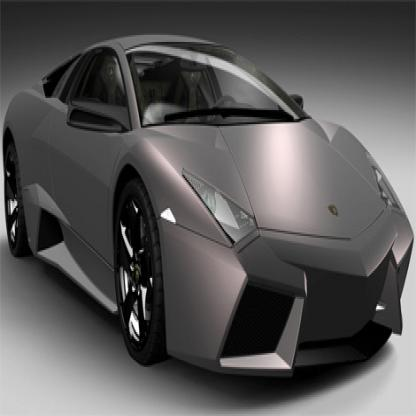Vehicle: (4, 33, 415, 390)
